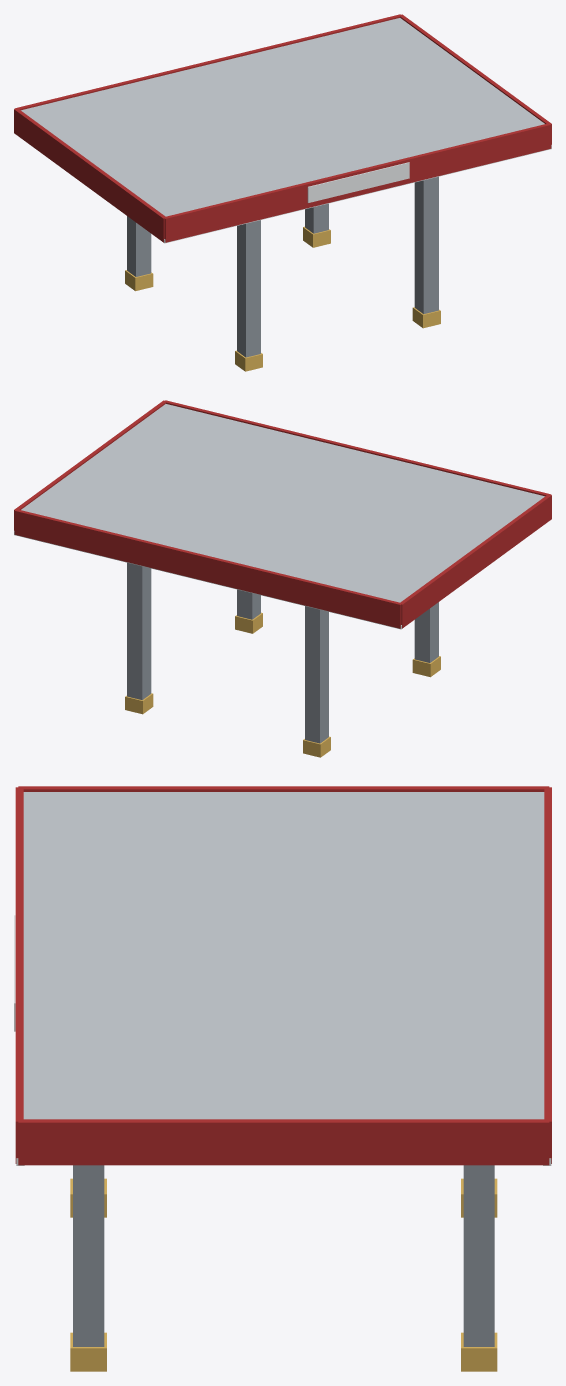
Rendered from env_fuel_canopy.fbx.
The picture shows the model from 3 angles, top to bottom: view 1: azimuth 30°, elevation 25°; view 2: azimuth 150°, elevation 25°; view 3: azimuth 270°, elevation 25°; orthographic projection. The views are drawn at different scales.
Visible parts, largest first — view 1: env_fuel_canopy; view 2: env_fuel_canopy; view 3: env_fuel_canopy.
Boxes of the visible parts, <box> form: env_fuel_canopy: <box>14,14,551,371</box>; env_fuel_canopy: <box>14,400,551,757</box>; env_fuel_canopy: <box>14,786,551,1371</box>.
Bounding box in the file's own units: 3060 × 1410 × 2067.
